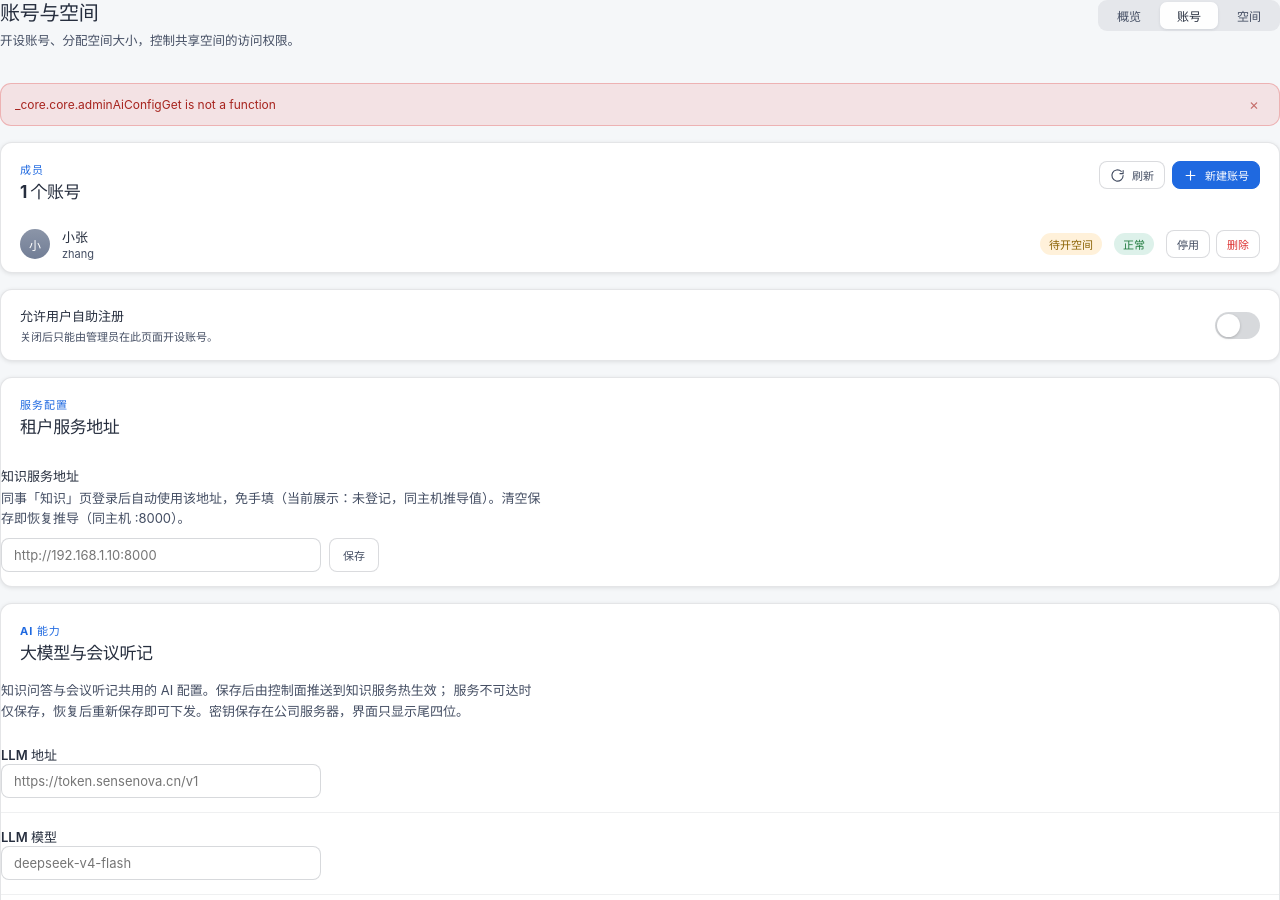
Test: AdminPanel 空间分配 › 超配时显示警告并标红已承诺
Click the tab with class "admin-tab" showing "空间" at (1249, 16), box [1220, 2, 1278, 29]
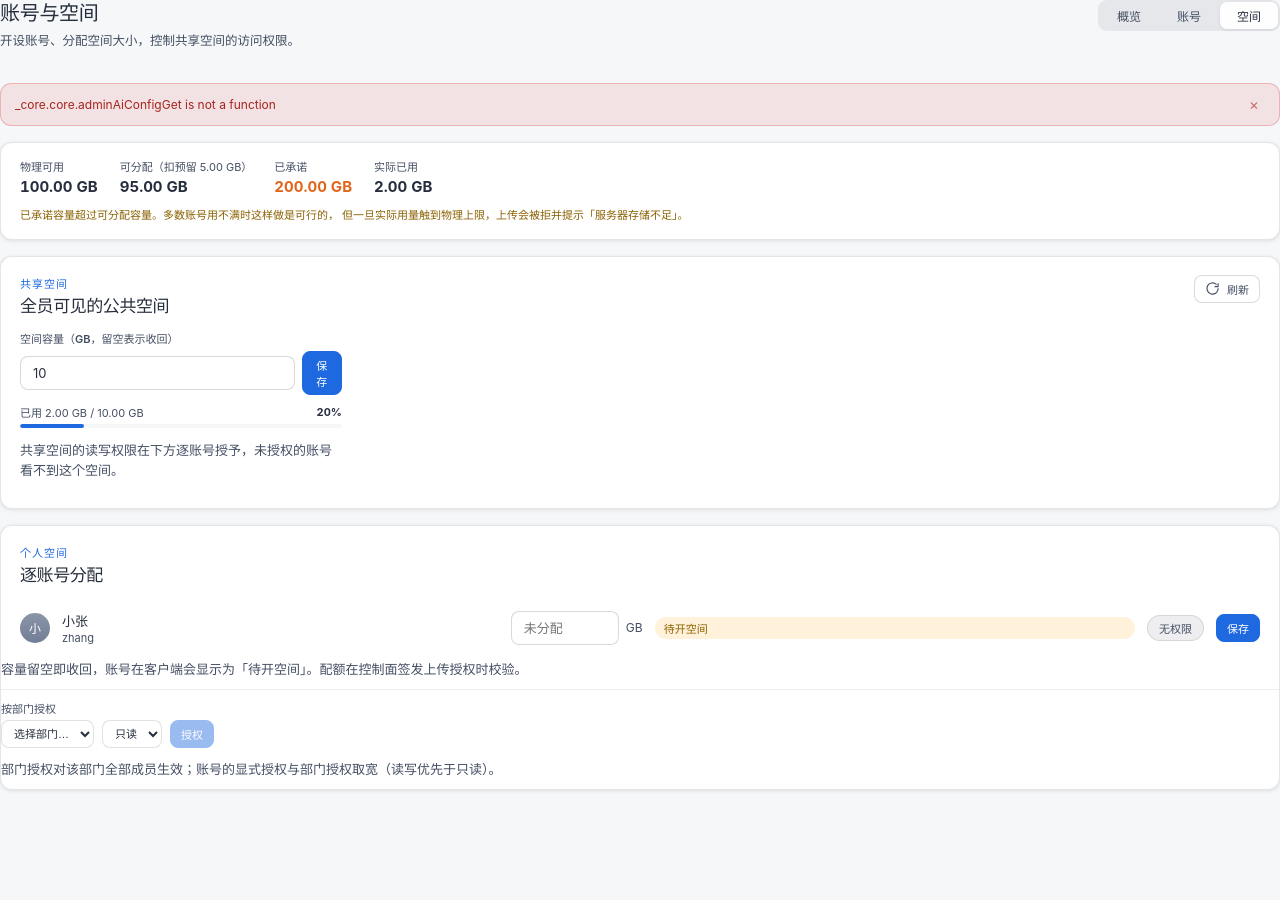
Result: the text with class "warn" is shown at [20, 208, 689, 222]
Result: the text "200.00 GB" is shown at [274, 177, 352, 196]
